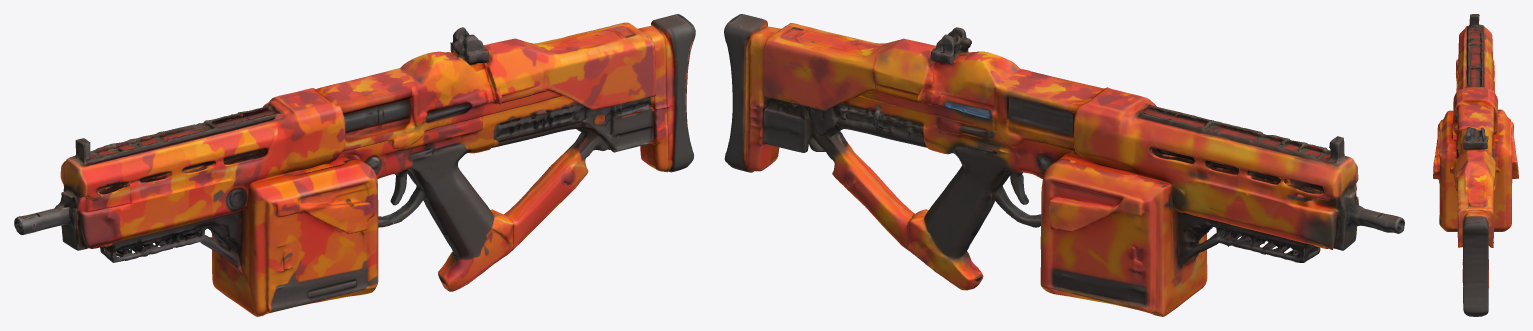
Rendered from weapon4.glb.
The picture shows the model from 3 angles, left to right: view 1: azimuth 30°, elevation 25°; view 2: azimuth 150°, elevation 25°; view 3: azimuth 270°, elevation 25°; orthographic projection. The views are drawn at different scales.
Bounding box in the file's own units: 2 × 0.7213 × 0.3402.
Materials: 1 (1 with a texture image).
